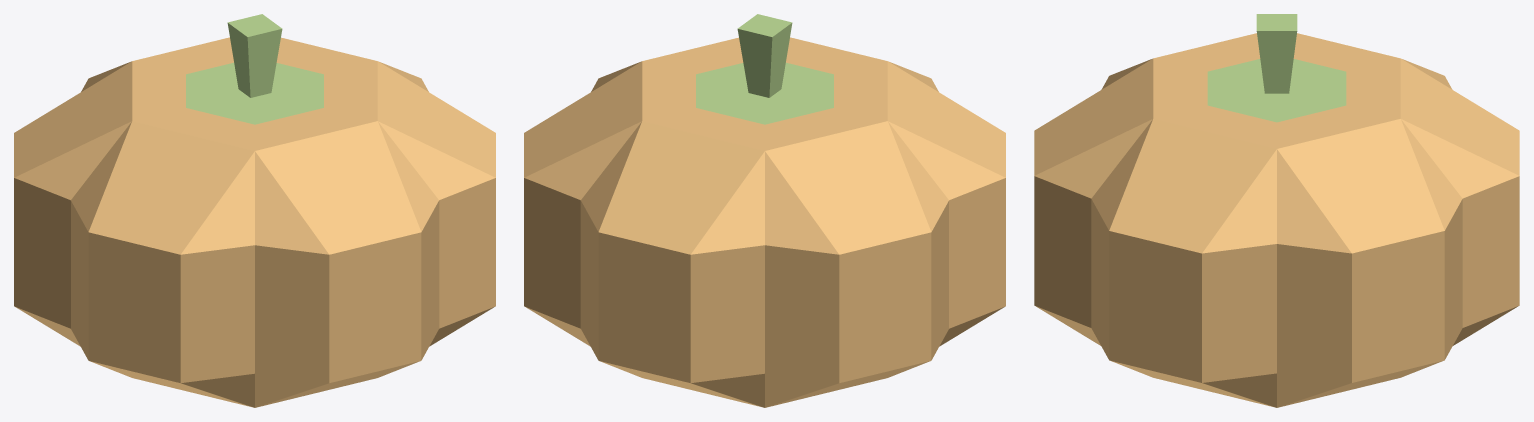
File: crop_pumpkin.glb
3 renders of one model, left to right at view 1: azimuth 30°, elevation 25°; view 2: azimuth 150°, elevation 25°; view 3: azimuth 270°, elevation 25°, orthographic.
Visible parts, largest first — view 1: crop_pumpkin; view 2: crop_pumpkin; view 3: crop_pumpkin.
Part boxes in pixels (x1,y1,x2,y2): crop_pumpkin: [14, 14, 495, 407]; crop_pumpkin: [524, 14, 1005, 407]; crop_pumpkin: [1034, 14, 1519, 407].
Size of the model in its own units: 0.4413 by 0.3338 by 0.4519.
